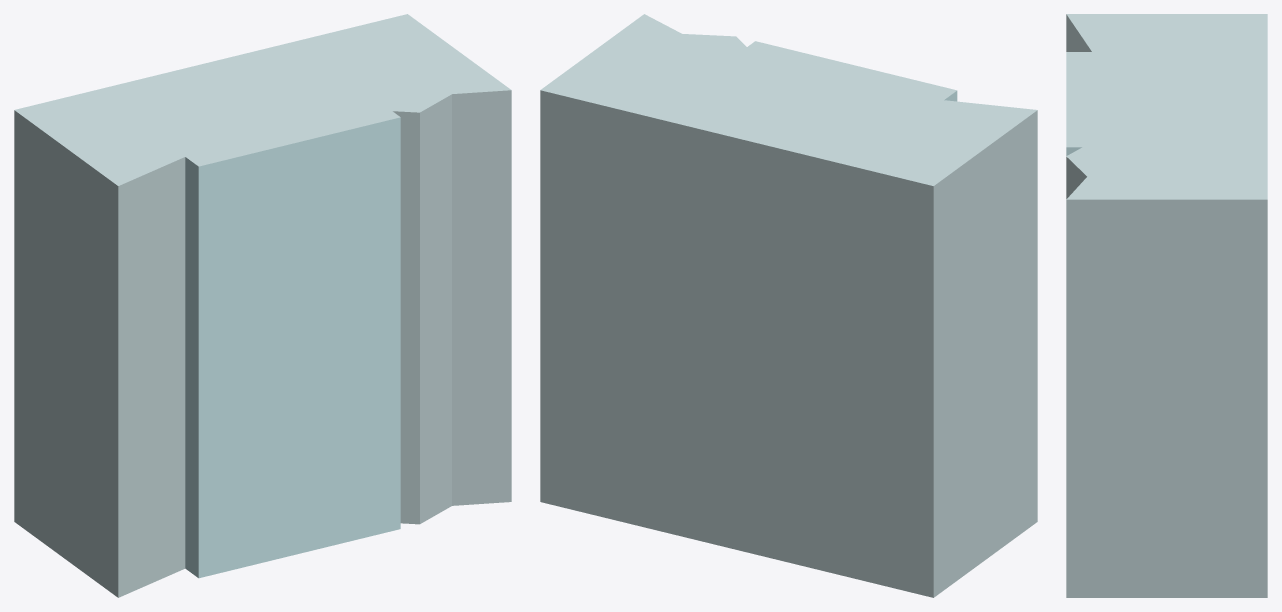
The model's file is cliffGrey_waterfallMid.glb.
3 renders of one model, left to right at view 1: azimuth 30°, elevation 25°; view 2: azimuth 150°, elevation 25°; view 3: azimuth 270°, elevation 25°, orthographic. The views are drawn at different scales.
Visible parts, largest first — view 1: cliffGrey_waterfallMid; view 2: cliffGrey_waterfallMid; view 3: cliffGrey_waterfallMid.
Part boxes in pixels (x1=…): cliffGrey_waterfallMid: x1=14, y1=14, x2=511, y2=597; cliffGrey_waterfallMid: x1=540, y1=14, x2=1037, y2=597; cliffGrey_waterfallMid: x1=1066, y1=14, x2=1267, y2=597.
Bounding box in the file's own units: 1 × 1 × 0.4584.
